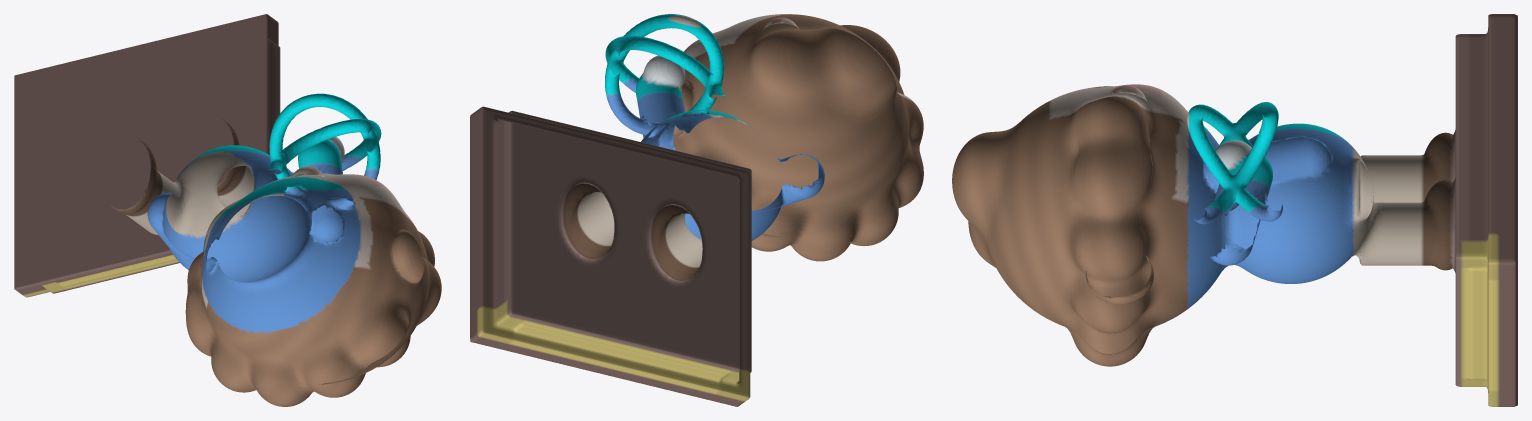
Rendered from heisenberg_chibi_colored.glb.
The picture shows the model from 3 angles, left to right: view 1: azimuth 30°, elevation 25°; view 2: azimuth 150°, elevation 25°; view 3: azimuth 270°, elevation 25°; orthographic projection. The views are drawn at different scales.
Visible parts, largest first — view 1: Quantum_Heisenberg; view 2: Quantum_Heisenberg; view 3: Quantum_Heisenberg.
Boxes of the visible parts, x1,y1,x2,y2 form: Quantum_Heisenberg: (14,14,441,406); Quantum_Heisenberg: (470,14,923,406); Quantum_Heisenberg: (952,14,1517,406).
Size of the model in its own units: 52 by 46.42 by 86.
